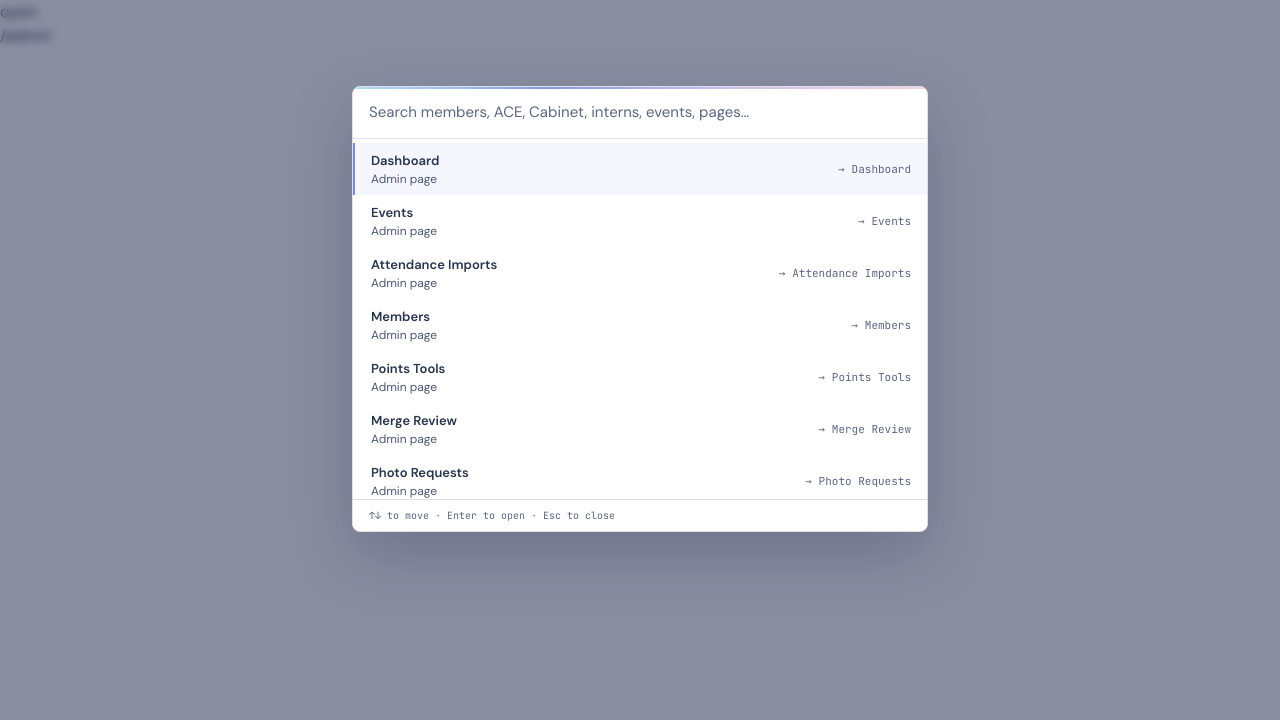
AdminQuickSearch › opens the exact record, by canonical id, on Enter
Type "havyn" into the dropdown named "Search admin".
click(640, 113); type("havyn")  # box [353,87,927,139]
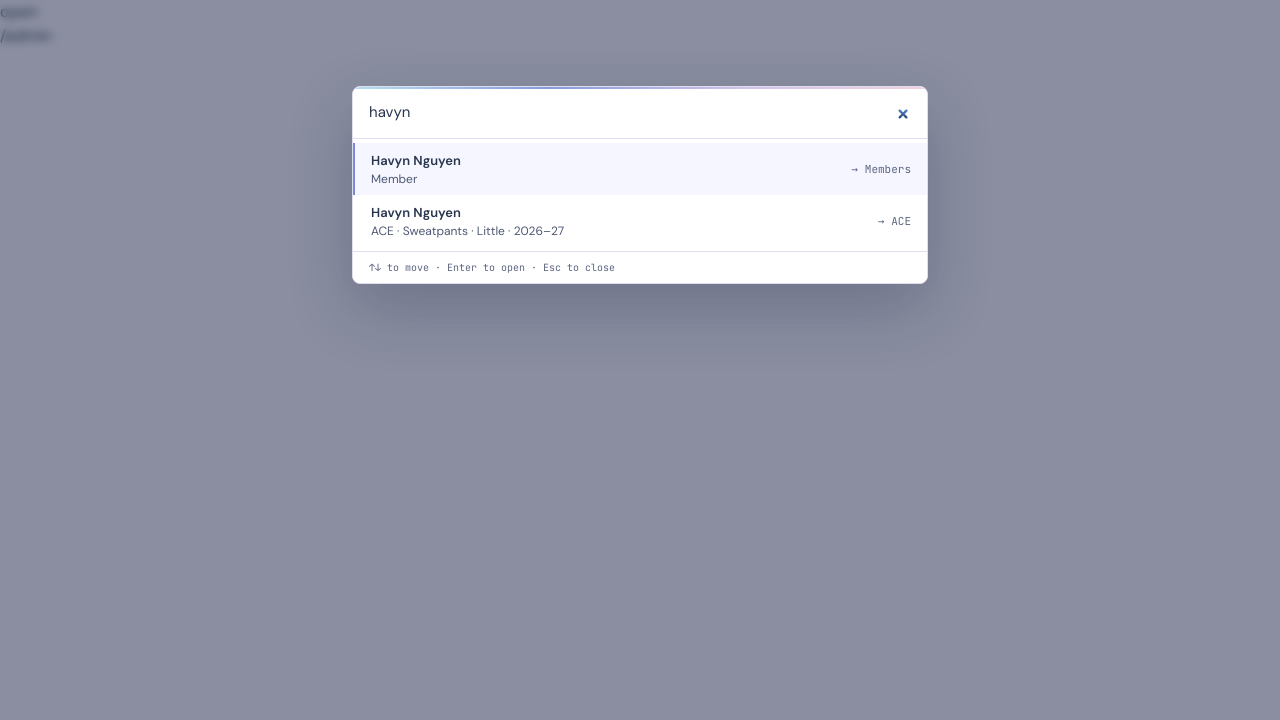
Press Enter in the dropdown named "Search admin", box [353,87,927,139]
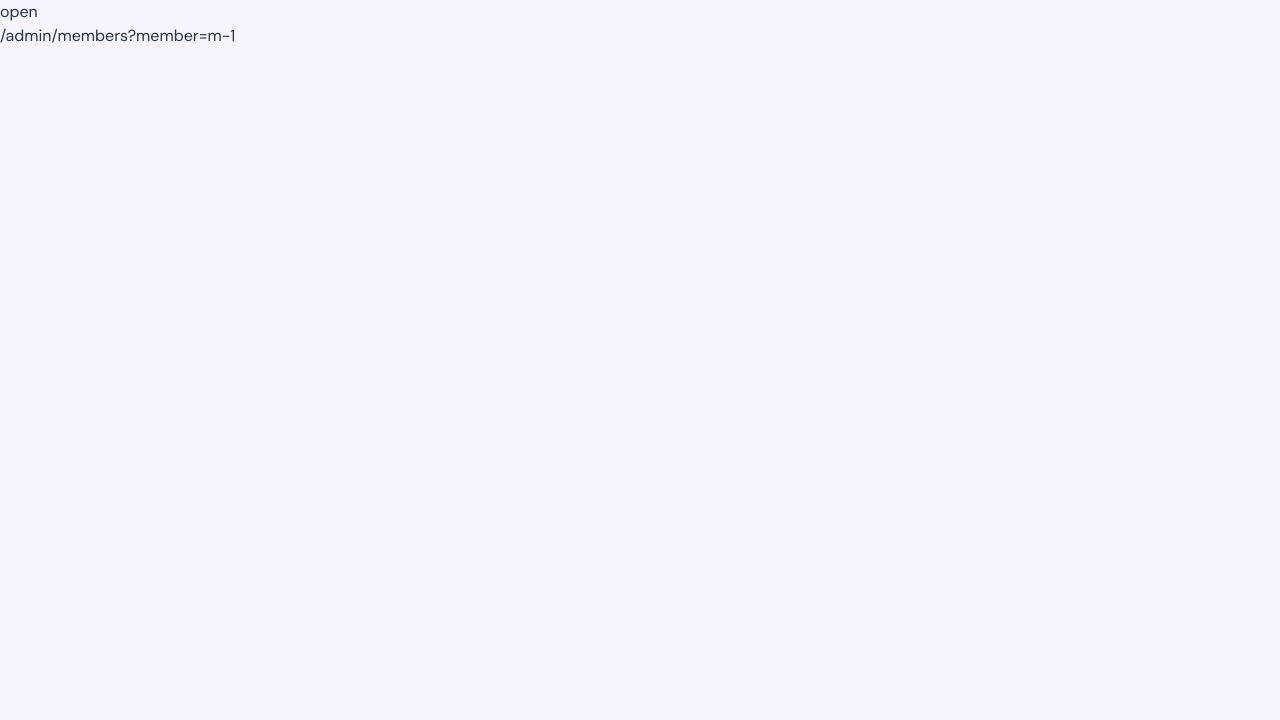
Result: the text with test id "where" reads "/admin/members?member=m-1" at [0,25,235,46]
Result: the dialog is gone
